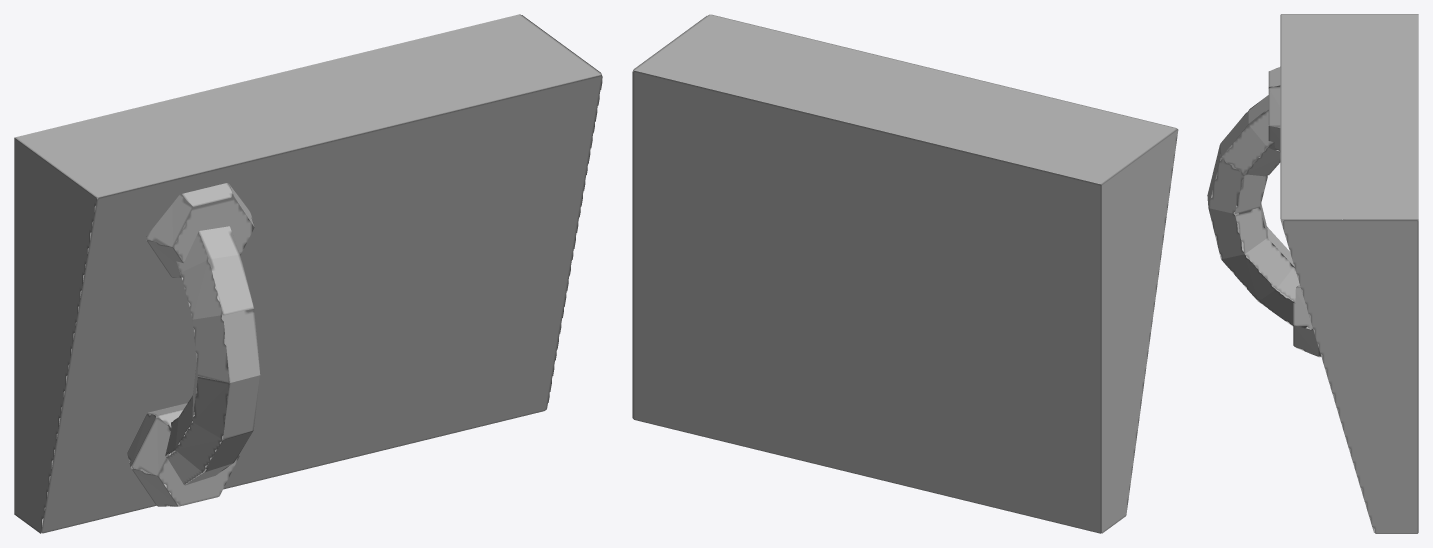
The model's file is pz_phone_modern_black.obj.
3 renders of one model, left to right at view 1: azimuth 30°, elevation 25°; view 2: azimuth 150°, elevation 25°; view 3: azimuth 270°, elevation 25°, orthographic. The views are drawn at different scales.
Parts seen in each view (by area): view 1: pz_phone_modern_black_|_simple_sloped_base, pz_phone_modern_black_|_EDITABLE_low-poly_curved_handset, pz_phone_modern_black_|_low-poly_receiver_end_1, pz_phone_modern_black_|_low-poly_receiver_end_0; view 2: pz_phone_modern_black_|_simple_sloped_base; view 3: pz_phone_modern_black_|_simple_sloped_base, pz_phone_modern_black_|_EDITABLE_low-poly_curved_handset, pz_phone_modern_black_|_low-poly_receiver_end_0, pz_phone_modern_black_|_low-poly_receiver_end_1.
Part boxes in pixels (left/top/right/bottom): pz_phone_modern_black_|_simple_sloped_base: left=14, top=14, right=602, bottom=533; pz_phone_modern_black_|_EDITABLE_low-poly_curved_handset: left=161, top=218, right=260, bottom=485; pz_phone_modern_black_|_low-poly_receiver_end_1: left=146, top=183, right=254, bottom=277; pz_phone_modern_black_|_low-poly_receiver_end_0: left=127, top=403, right=239, bottom=506; pz_phone_modern_black_|_simple_sloped_base: left=632, top=14, right=1178, bottom=533; pz_phone_modern_black_|_simple_sloped_base: left=1280, top=14, right=1418, bottom=533; pz_phone_modern_black_|_EDITABLE_low-poly_curved_handset: left=1207, top=95, right=1307, bottom=327; pz_phone_modern_black_|_low-poly_receiver_end_0: left=1293, top=285, right=1321, bottom=357; pz_phone_modern_black_|_low-poly_receiver_end_1: left=1268, top=67, right=1280, bottom=151.
Size of the model in its own units: 0.374 by 0.266 by 0.1621.
Materials: 1 (1 with a texture image).
